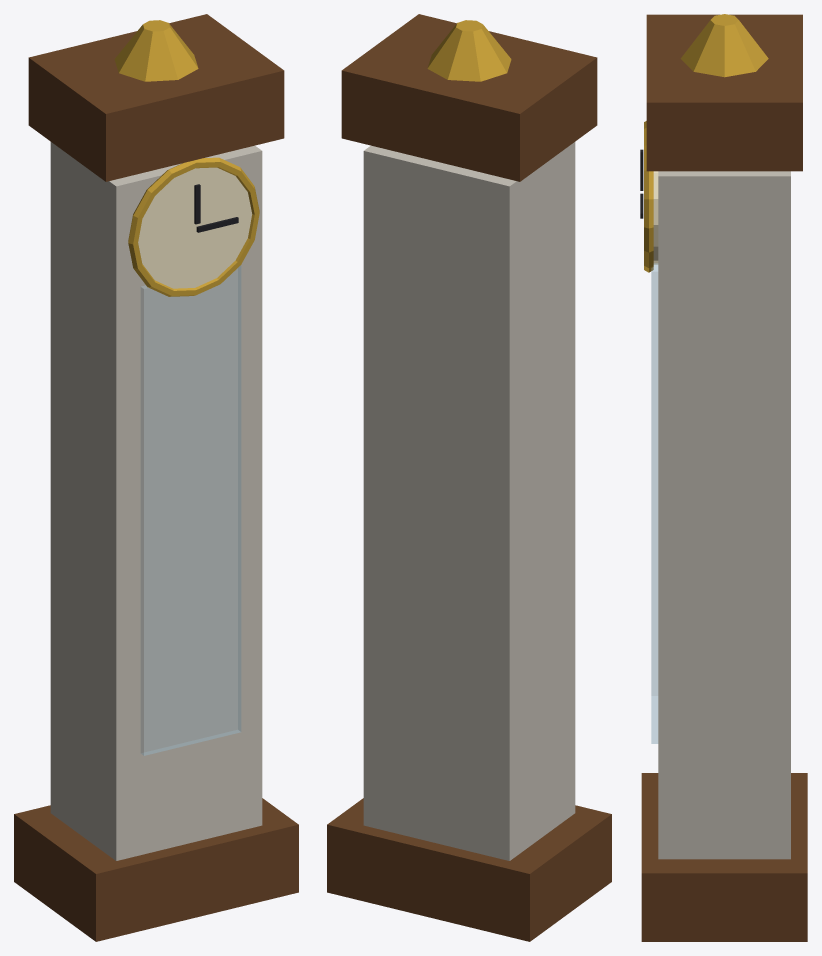
The model's file is clock_grandfather.glb.
3 views of the same model, side by side, from view 1: azimuth 30°, elevation 25°; view 2: azimuth 150°, elevation 25°; view 3: azimuth 270°, elevation 25° (orthographic).
Parts seen in each view (by area): view 1: clock_grandfather; view 2: clock_grandfather; view 3: clock_grandfather.
Part boxes in pixels (left/top/right/bottom): clock_grandfather: left=14, top=14, right=298, bottom=941; clock_grandfather: left=327, top=14, right=611, bottom=941; clock_grandfather: left=640, top=14, right=807, bottom=941.
Bounding box in the file's own units: 0.5 × 2.03 × 0.353.
